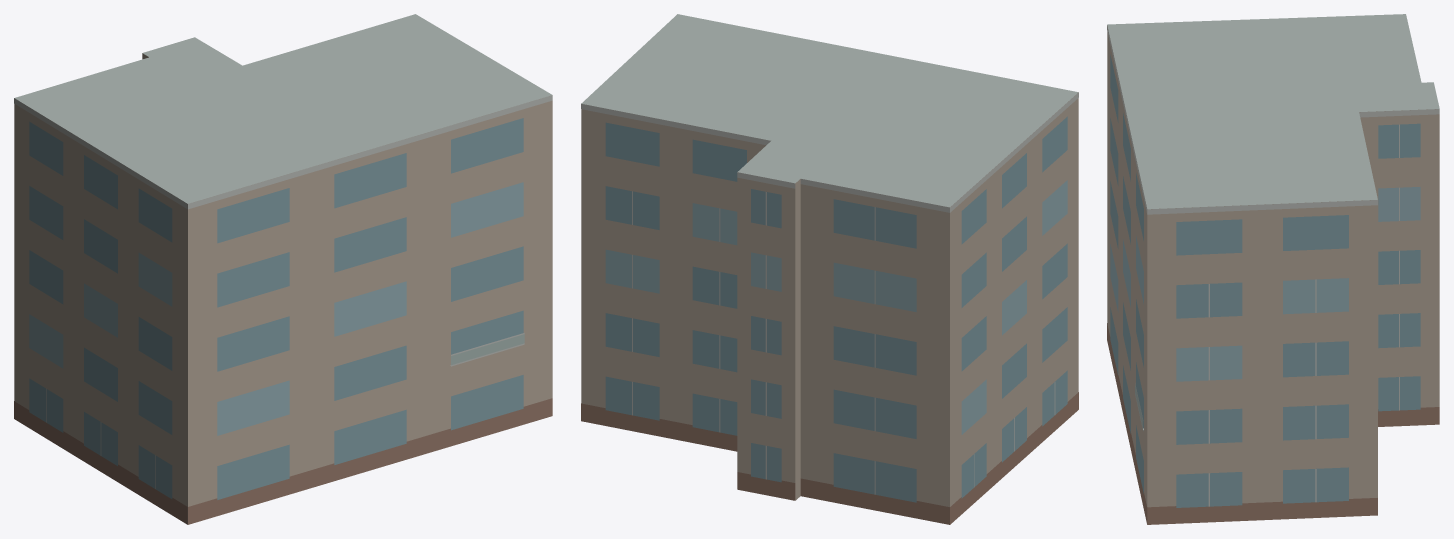
The model's file is survey-upis-32750137.glb.
3 renders of one model, left to right at view 1: azimuth 30°, elevation 25°; view 2: azimuth 150°, elevation 25°; view 3: azimuth 270°, elevation 25°, orthographic.
Visible parts, largest first — view 1: survey-upis-32750137.tmp; view 2: survey-upis-32750137.tmp; view 3: survey-upis-32750137.tmp.
Boxes of the visible parts, x1,y1,x2,y2 form: survey-upis-32750137.tmp: (14,14,552,524); survey-upis-32750137.tmp: (581,14,1078,524); survey-upis-32750137.tmp: (1107,14,1439,524).
Size of the model in its own units: 18.85 by 14.2 by 13.57.
